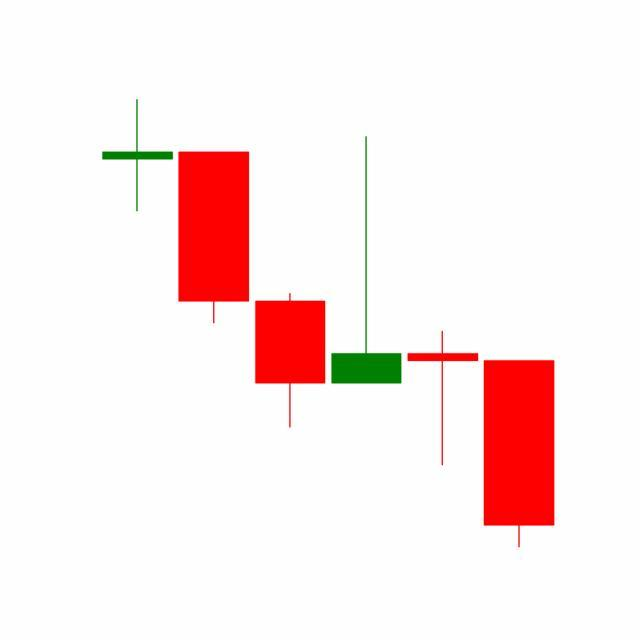Spinning Top: (404, 330, 482, 468)
